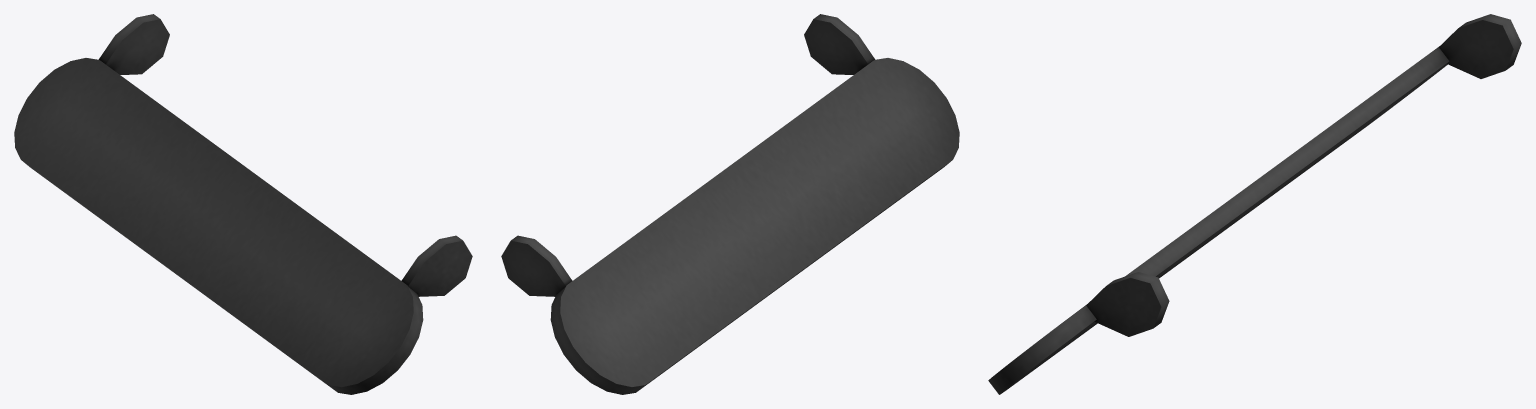
File: front_hazcam_cover_link.dae
3 renders of one model, left to right at view 1: azimuth 30°, elevation 25°; view 2: azimuth 150°, elevation 25°; view 3: azimuth 330°, elevation 25°, orthographic. The views are drawn at different scales.
Parts seen in each view (by area): view 1: front_hazcam_cover_link; view 2: front_hazcam_cover_link; view 3: front_hazcam_cover_link.
Part boxes in pixels (x1,y1,x2,y2): front_hazcam_cover_link: (14, 14, 472, 394); front_hazcam_cover_link: (501, 14, 959, 394); front_hazcam_cover_link: (988, 14, 1521, 394).
Bounding box in the file's own units: 0.0655 × 0.2862 × 0.0538.
1 material, 1 textured.
